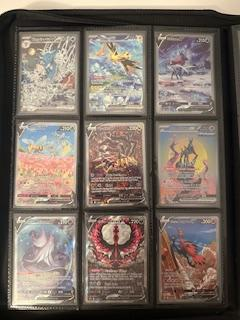card: (12, 213, 78, 312), (155, 212, 224, 305), (83, 211, 150, 306), (84, 119, 151, 209), (16, 30, 81, 119), (15, 121, 79, 211), (156, 121, 220, 210), (155, 30, 219, 117), (86, 30, 149, 118)
